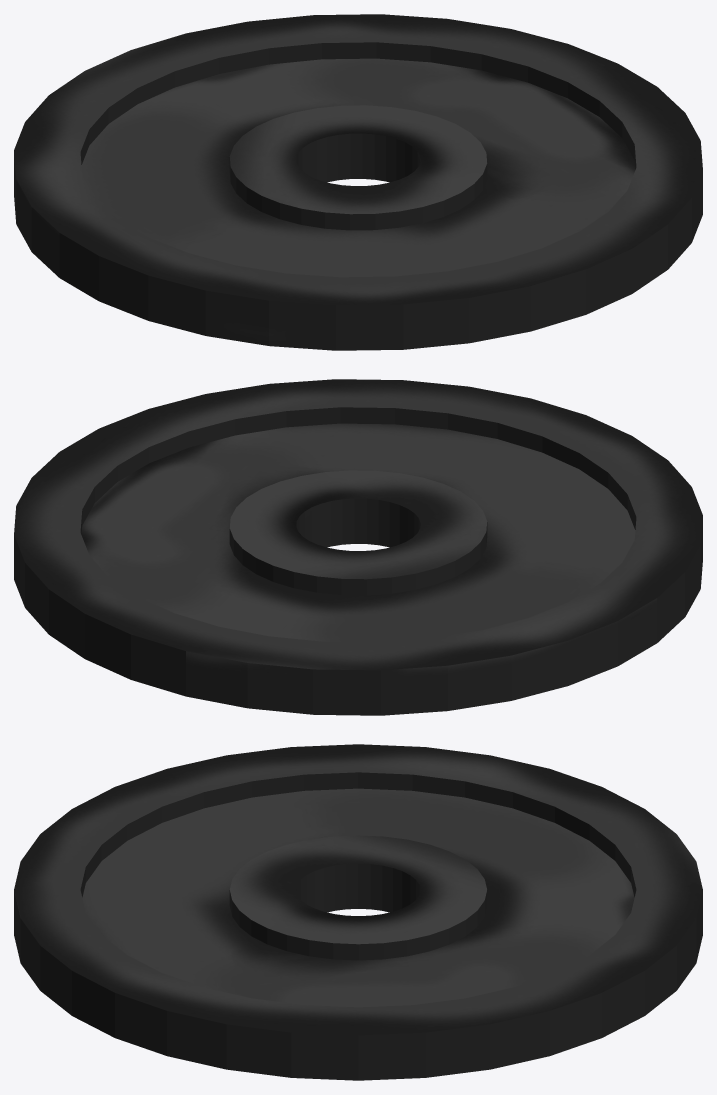
The model's file is weight disk 22.11.2023.fbx.
3 views of the same model, one above another, from view 1: azimuth 30°, elevation 25°; view 2: azimuth 150°, elevation 25°; view 3: azimuth 270°, elevation 25° (orthographic).
Parts seen in each view (by area): view 1: Circle; view 2: Circle; view 3: Circle.
Part boxes in pixels (bbox=[...]): Circle: bbox=[14, 14, 702, 350]; Circle: bbox=[14, 379, 702, 715]; Circle: bbox=[14, 744, 702, 1080].
Bounding box in the file's own units: 40 × 2.9 × 40.
